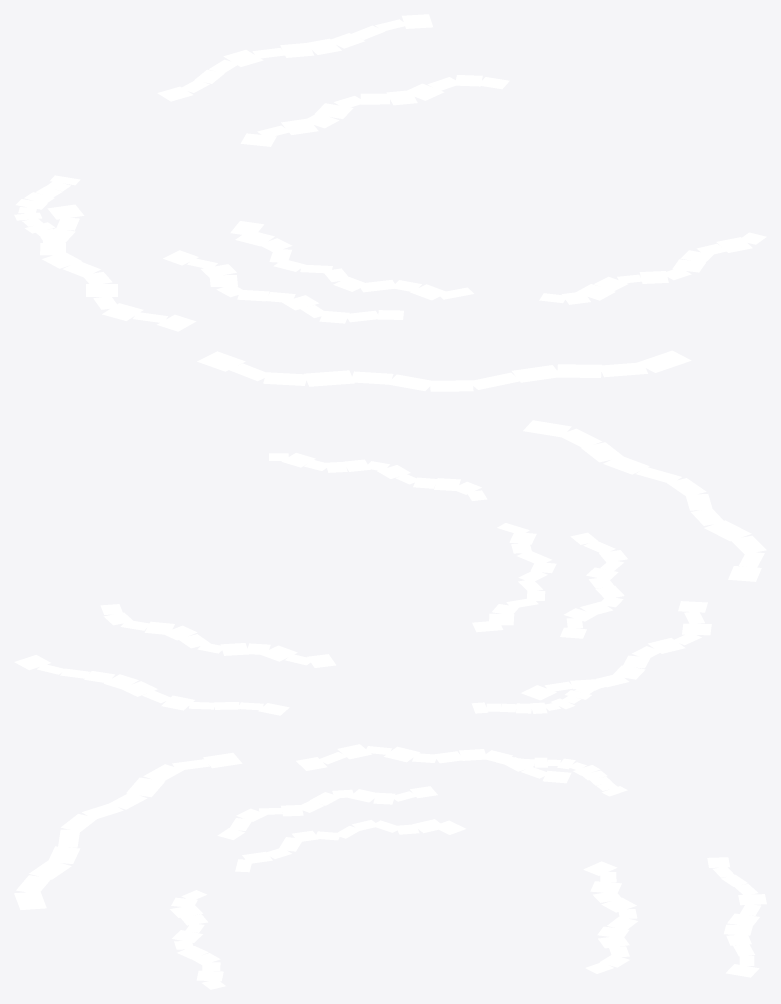
Rendered from Foam_Ring.glb.
The picture shows the model from 3 angles, top to bottom: view 1: azimuth 30°, elevation 25°; view 2: azimuth 150°, elevation 25°; view 3: azimuth 270°, elevation 25°; orthographic projection. The views are drawn at different scales.
Parts seen in each view (by area): view 1: Foam_Ring; view 2: Foam_Ring; view 3: Foam_Ring.
Part boxes in pixels (left/top/right/bottom): Foam_Ring: left=14, top=14, right=766, bottom=391; Foam_Ring: left=14, top=420, right=766, bottom=715; Foam_Ring: left=14, top=744, right=766, bottom=989.
Size of the model in its own units: 1.71 by 0.0056 by 2.22.
1 material, 1 textured.
